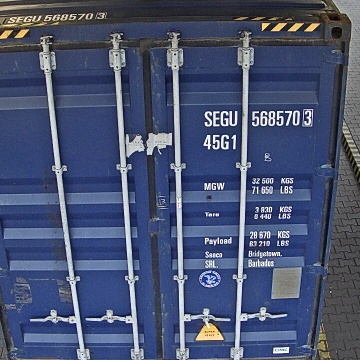serial_id: (204, 110, 313, 126)
